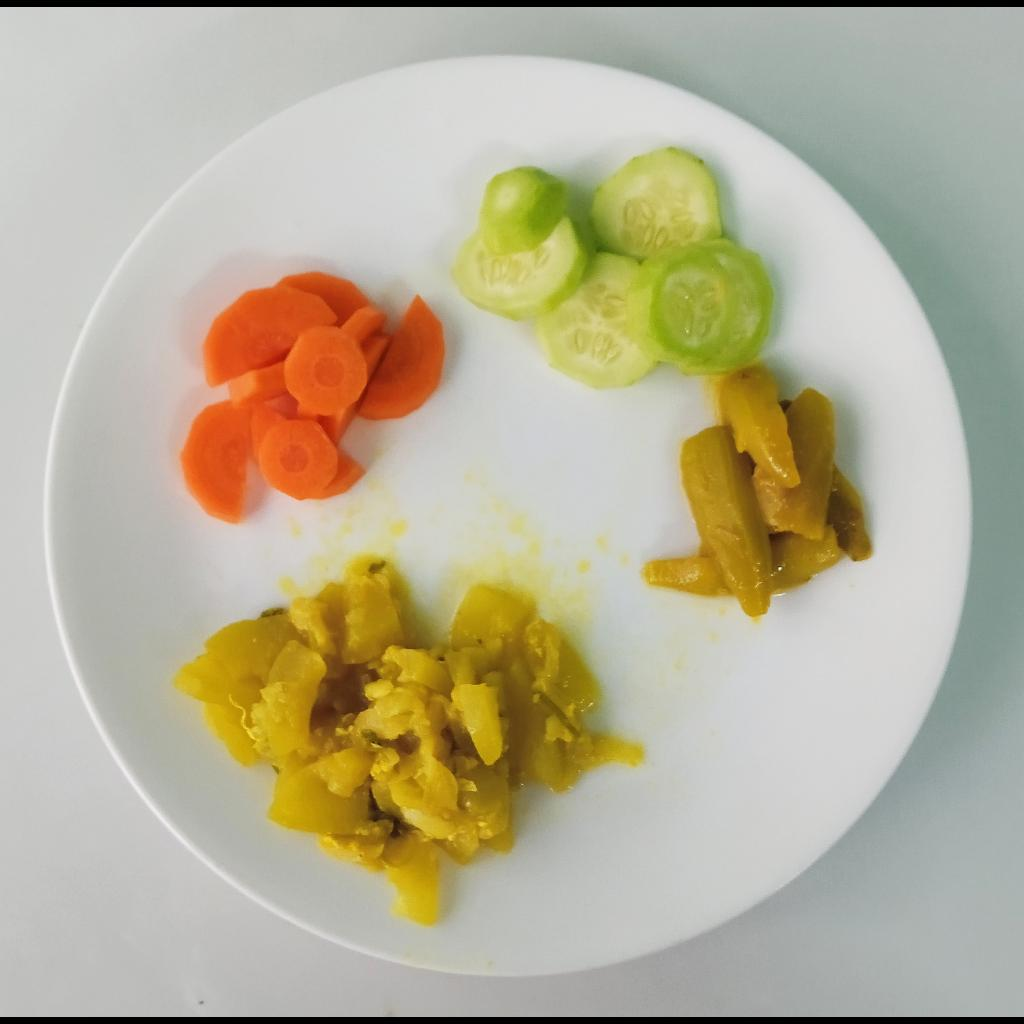carrot: (179, 269, 447, 529)
cucumber: (452, 147, 776, 393)
dundol: (640, 363, 877, 623)
kumra-vaji: (175, 563, 609, 929)
